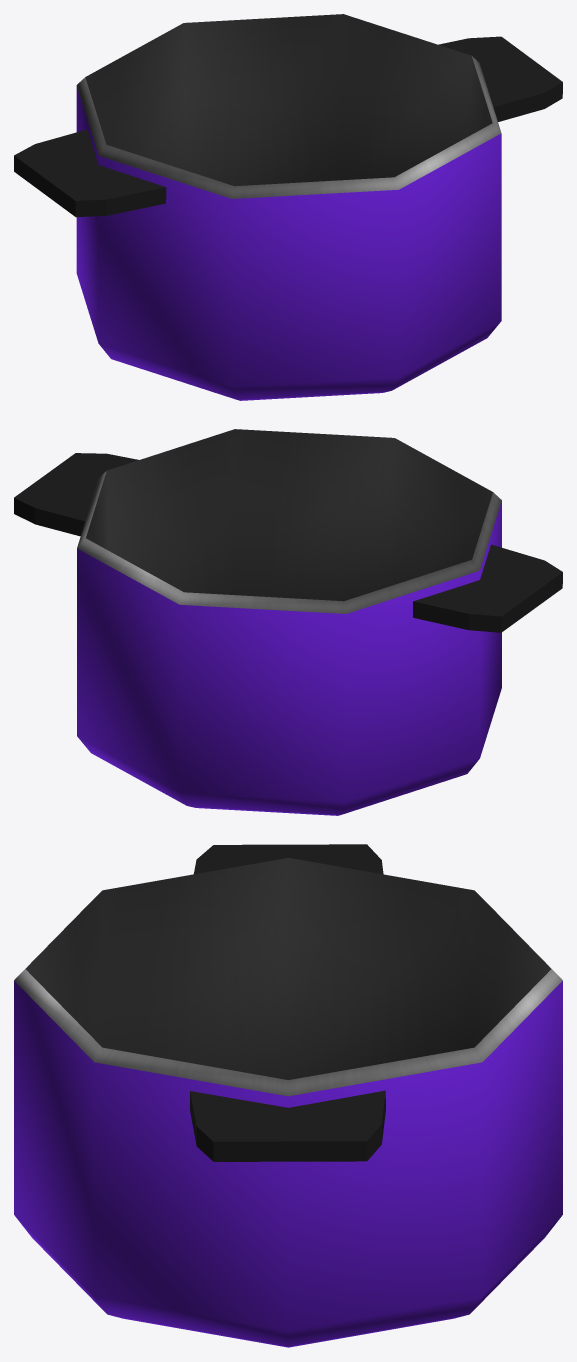
File: Cooking_Pot_F.FBX
3 views of the same model, one above another, from view 1: azimuth 30°, elevation 25°; view 2: azimuth 150°, elevation 25°; view 3: azimuth 270°, elevation 25° (orthographic). The views are drawn at different scales.
Parts seen in each view (by area): view 1: Cooking_Pot; view 2: Cooking_Pot; view 3: Cooking_Pot.
Boxes of the visible parts, x1,y1,x2,y2 form: Cooking_Pot: (14, 14, 562, 400); Cooking_Pot: (14, 429, 562, 815); Cooking_Pot: (14, 844, 562, 1347).
Size of the model in its own units: 102 by 45 by 80.
